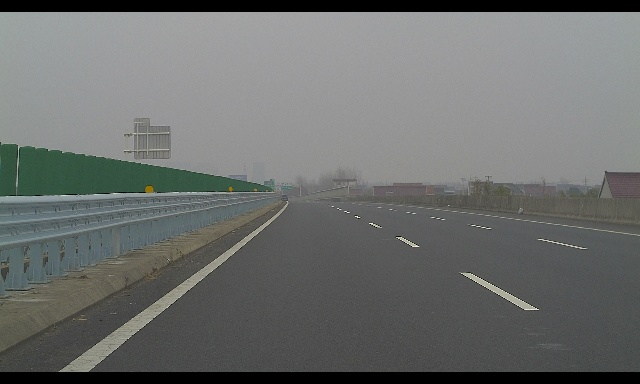car: (281, 194, 289, 201)
